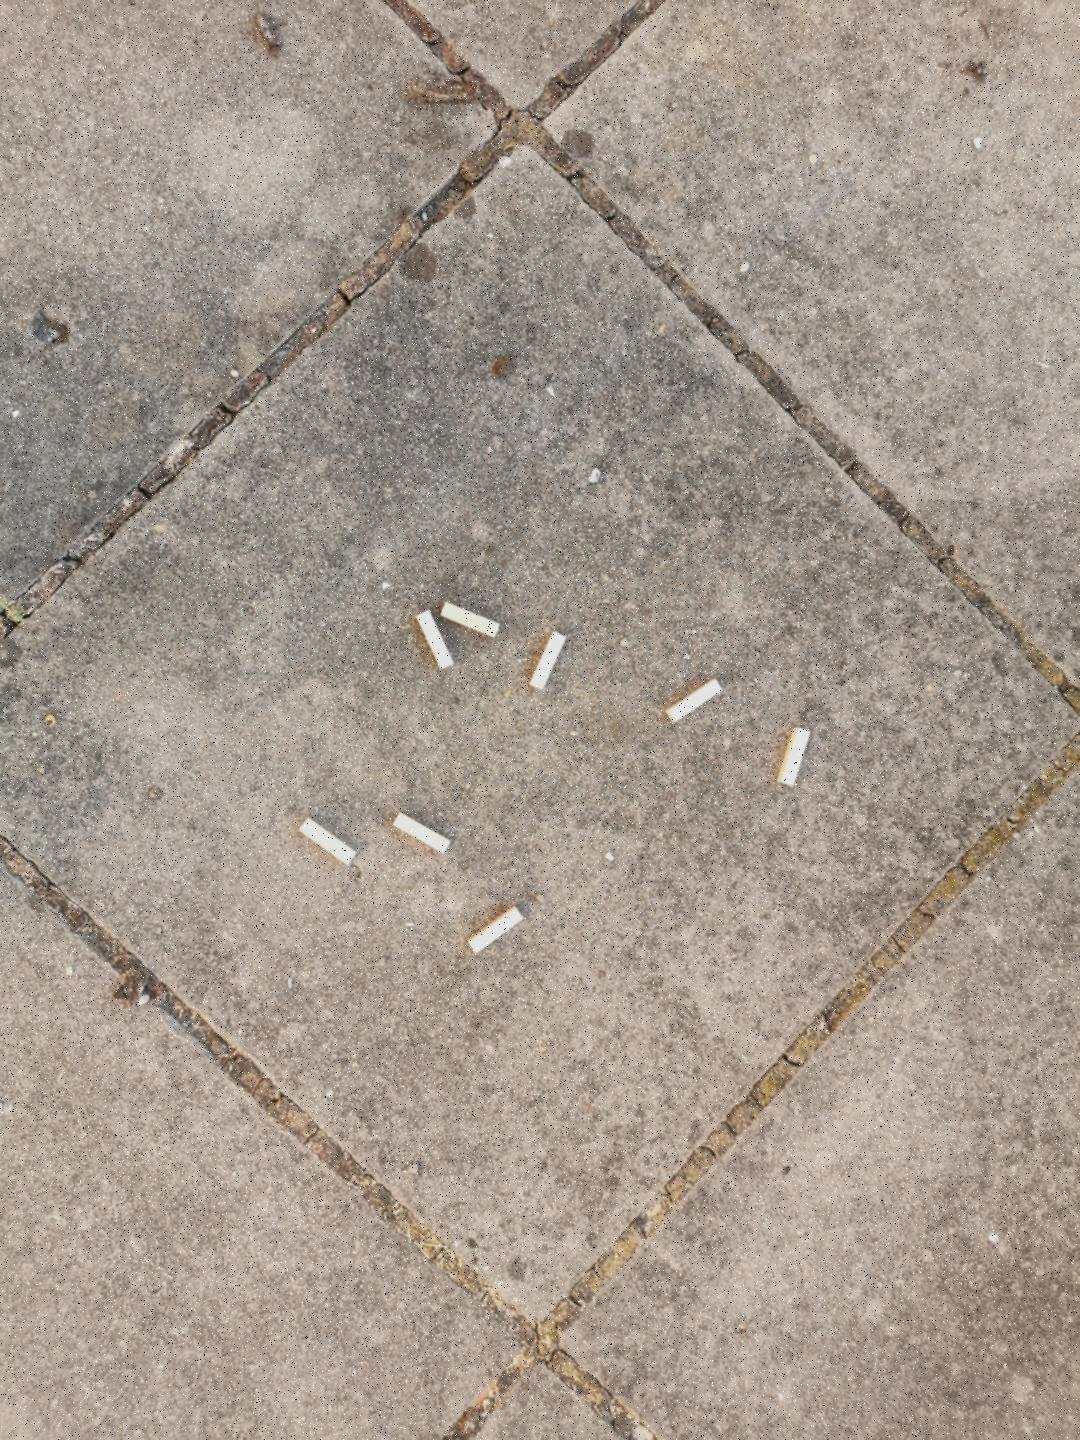jenga: (470, 906, 523, 954), (667, 678, 723, 722), (301, 819, 354, 864), (394, 813, 450, 853), (416, 610, 453, 669), (529, 633, 565, 689), (441, 602, 500, 636), (779, 728, 810, 785)
